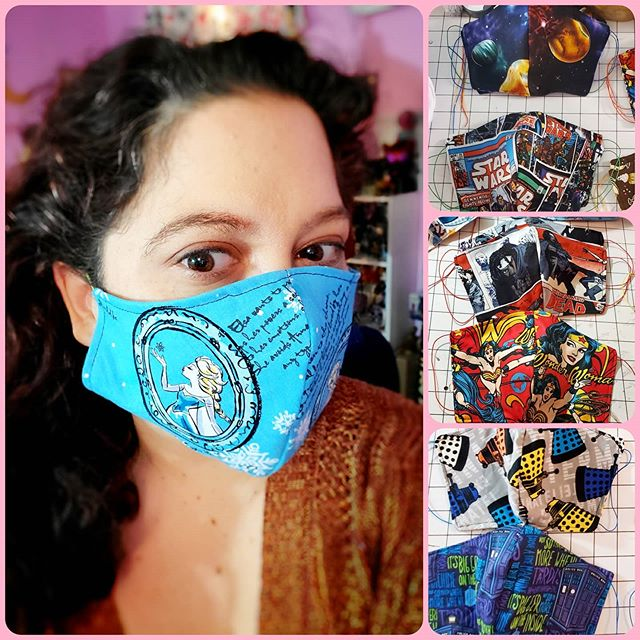homemade: (85, 275, 362, 474), (442, 108, 630, 222), (437, 319, 639, 423), (429, 538, 635, 638), (432, 433, 630, 531), (437, 218, 640, 313), (449, 5, 620, 98)
